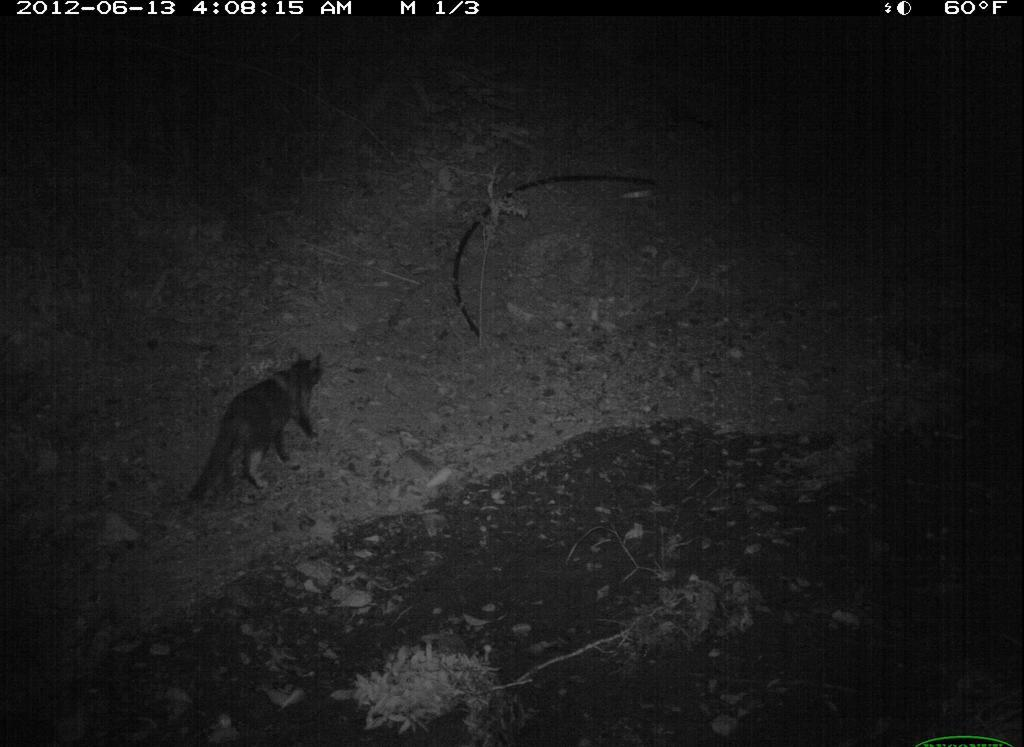cat: (168, 353, 359, 524)
